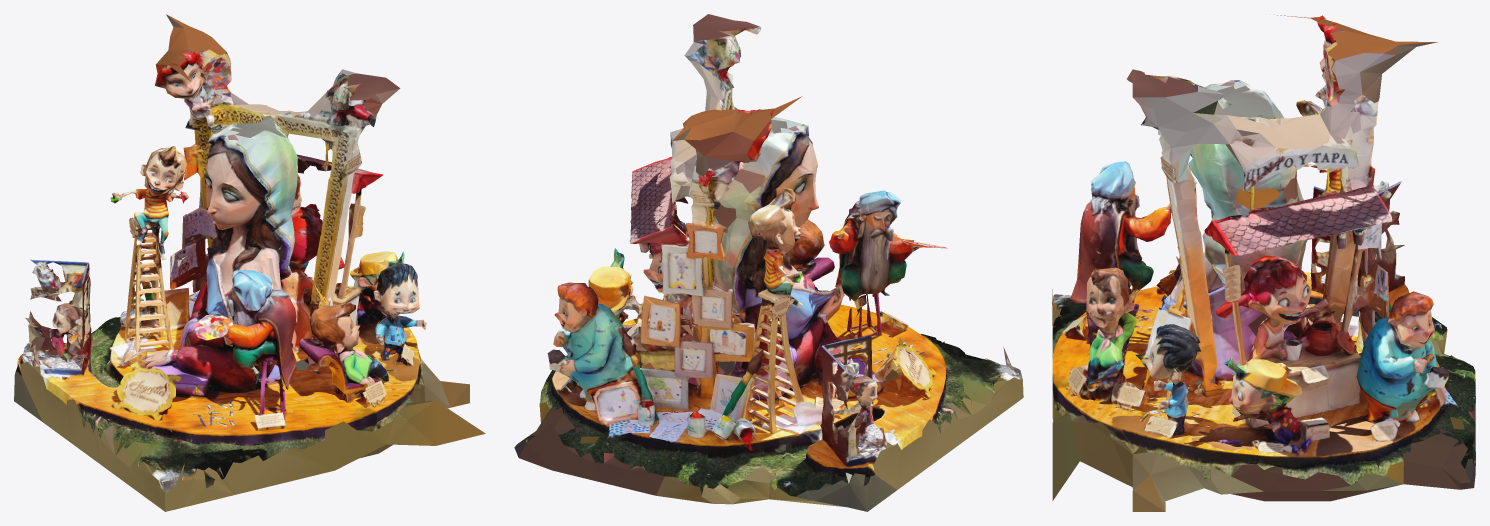
The model's file is falla_infantil_segrelles_2024_-_test_small_ULTRA_30_30_30.glb.
The picture shows the model from 3 angles, left to right: view 1: azimuth 30°, elevation 25°; view 2: azimuth 150°, elevation 25°; view 3: azimuth 270°, elevation 25°; orthographic projection. The views are drawn at different scales.
Size of the model in its own units: 2.94 by 2.74 by 2.79.
Materials: 1 (1 with a texture image).
